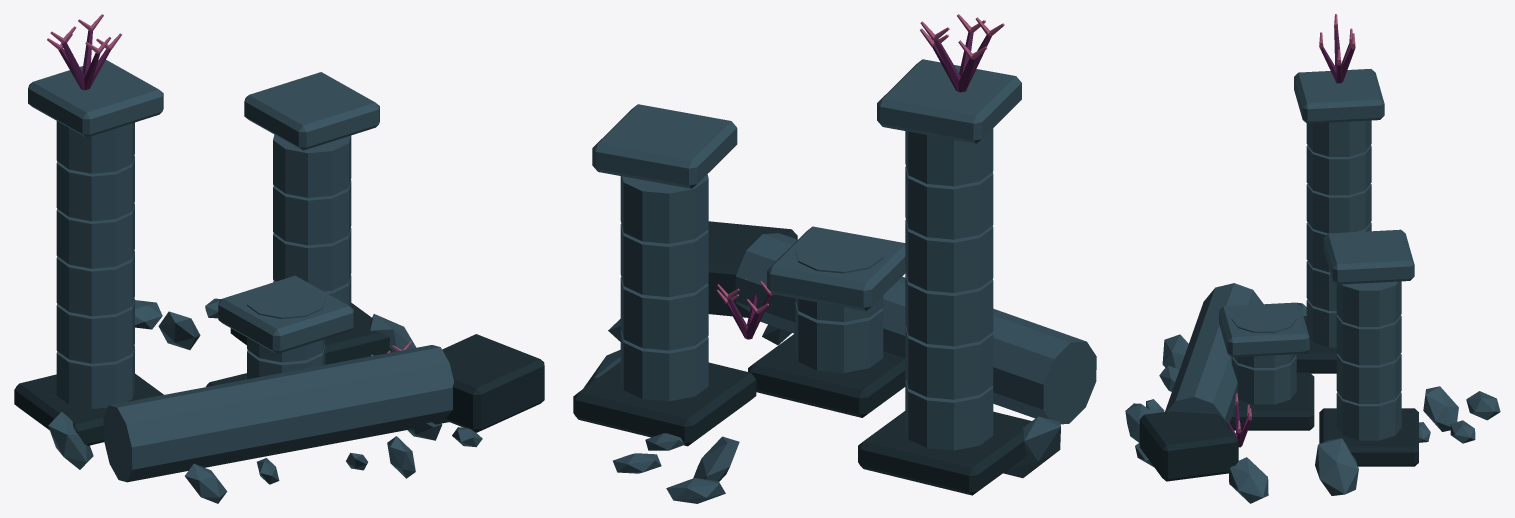
The model's file is 08_collapsed_pillars.obj.
The picture shows the model from 3 angles, left to right: view 1: azimuth 30°, elevation 25°; view 2: azimuth 150°, elevation 25°; view 3: azimuth 270°, elevation 25°; orthographic projection. The views are drawn at different scales.
Parts seen in each view (by area): view 1: FallenColumn, FallenCapital, BrokenCapital.001, BrokenCapital, BrokenCapital.002, FlutedColumnDrum.009, FlutedColumnDrum.004, FlutedColumnDrum.003, FlutedColumnDrum.001, FlutedColumnDrum.008, FlutedColumnDrum.002, FlutedColumnDrum (+12 smaller); view 2: FallenColumn, BrokenCapital.001, BrokenCapital, PillarFoot.001, PillarFoot, PillarFoot.002, BrokenCapital.002, FlutedColumnDrum.009, FlutedColumnDrum.002, FlutedColumnDrum.004, FlutedColumnDrum.007, FlutedColumnDrum.001 (+12 smaller); view 3: FallenColumn, FallenCapital, BrokenCapital.001, BrokenCapital, PillarFoot.001, BrokenCapital.002, FlutedColumnDrum.009, PillarFoot.002, FlutedColumnDrum.008, FlutedColumnDrum.004, FlutedColumnDrum.007, FlutedColumnDrum.003 (+15 smaller).
Part boxes in pixels (x1,y1,x2,y2): FallenColumn: (103, 345, 453, 482); FallenCapital: (442, 334, 544, 432); BrokenCapital.001: (244, 72, 379, 150); BrokenCapital: (28, 60, 163, 137); BrokenCapital.002: (218, 275, 353, 353); FlutedColumnDrum.009: (273, 134, 351, 197); FlutedColumnDrum.004: (56, 156, 134, 221); FlutedColumnDrum.003: (56, 203, 134, 268); FlutedColumnDrum.001: (56, 298, 134, 363); FlutedColumnDrum.008: (273, 180, 351, 245); FlutedColumnDrum.002: (56, 251, 134, 316); FlutedColumnDrum: (56, 346, 134, 408); FallenColumn: (735, 233, 1096, 424); BrokenCapital.001: (592, 104, 737, 188); BrokenCapital: (877, 59, 1021, 143); PillarFoot.001: (573, 362, 756, 446); PillarFoot: (858, 411, 1031, 495); PillarFoot.002: (748, 333, 905, 417); BrokenCapital.002: (767, 226, 905, 310); FlutedColumnDrum.009: (620, 174, 708, 243); FlutedColumnDrum.002: (905, 273, 993, 346); FlutedColumnDrum.004: (905, 166, 993, 239); FlutedColumnDrum.007: (620, 277, 708, 350); FlutedColumnDrum.001: (905, 326, 993, 399); FallenColumn: (1165, 283, 1263, 423); FallenCapital: (1139, 411, 1238, 481); BrokenCapital.001: (1323, 229, 1414, 284); BrokenCapital: (1294, 69, 1384, 123); PillarFoot.001: (1319, 408, 1418, 466); BrokenCapital.002: (1219, 302, 1309, 357); FlutedColumnDrum.009: (1336, 281, 1401, 326); PillarFoot.002: (1230, 372, 1314, 430); FlutedColumnDrum.008: (1336, 315, 1401, 365); FlutedColumnDrum.004: (1306, 145, 1371, 195); FlutedColumnDrum.007: (1336, 354, 1401, 403); FlutedColumnDrum.003: (1306, 184, 1371, 233).
Size of the model in its own units: 7.95 by 7.57 by 7.51.
Materials: 4 (4 with a texture image).
